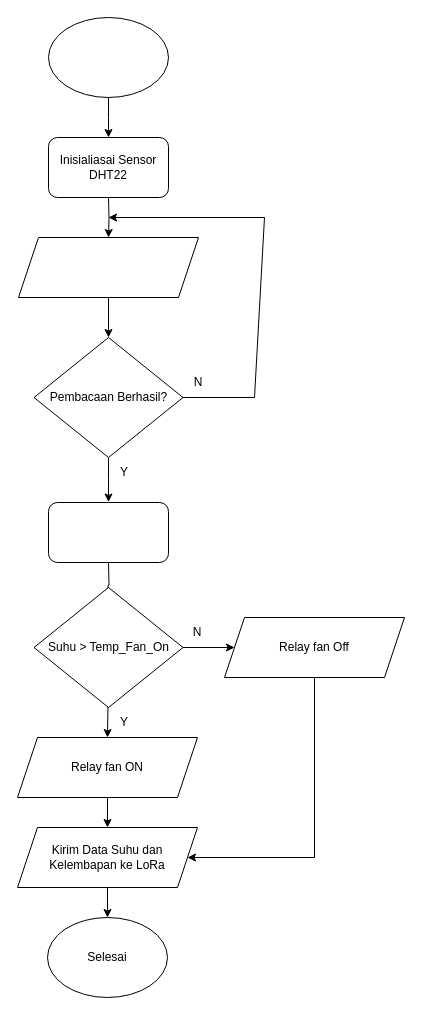
Some shapes in this 422 by 1015 pixel diagram are drawn without their labels. The shapes that lost their labels are listed below. From the top down, each one's centre as x and y in pixels, then its label:
At (x=108, y=57): "Mulai".
At (x=108, y=267): "Baca Data Suhu dan Kelembapan DHT22".
At (x=108, y=532): "Simpan Data Ke Variable".
